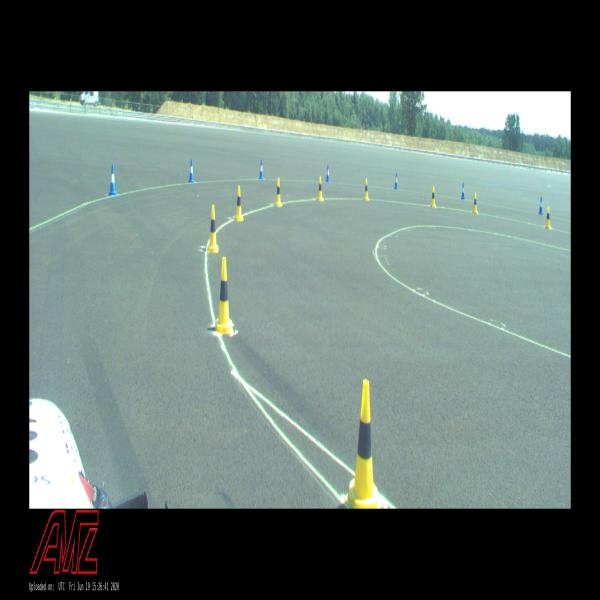blue_cone: (108, 164, 117, 196), (188, 159, 194, 183), (259, 160, 264, 180), (326, 164, 330, 183), (539, 197, 543, 215), (394, 173, 398, 189), (461, 183, 465, 199)
yellow_cone: (344, 379, 384, 508), (215, 257, 234, 334), (207, 205, 219, 252), (234, 186, 244, 220), (276, 178, 282, 206), (318, 176, 324, 200), (545, 207, 551, 229), (364, 179, 369, 200), (431, 187, 436, 208), (472, 193, 477, 214)
